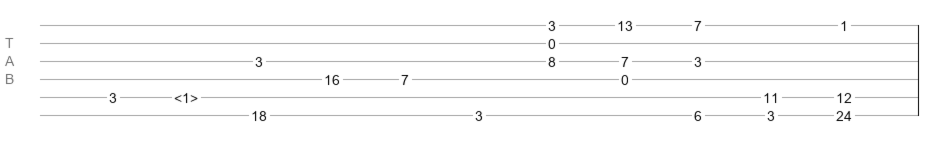0: (548, 36, 556, 46), (621, 72, 629, 82)
1: (840, 18, 848, 28)
11: (763, 90, 779, 100)
12: (836, 90, 852, 100)
13: (617, 18, 633, 28)
16: (324, 72, 340, 82)
18: (251, 108, 267, 118)
24: (836, 108, 852, 118)
3: (109, 90, 117, 100), (255, 54, 263, 64), (475, 108, 483, 118), (548, 18, 556, 28), (694, 54, 702, 64), (767, 108, 775, 118)
6: (694, 108, 702, 118)
7: (401, 72, 409, 82), (621, 54, 629, 64), (694, 18, 702, 28)
8: (548, 54, 556, 64)
harmonic: (174, 90, 198, 100)
